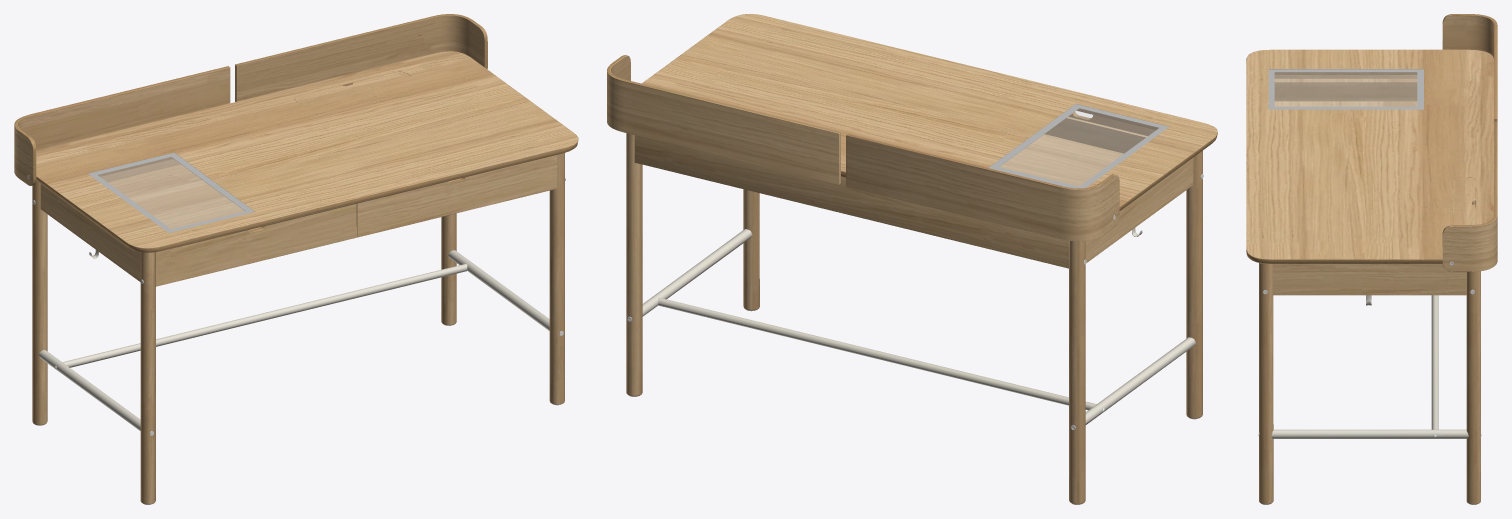
The picture shows the model from 3 angles, left to right: view 1: azimuth 30°, elevation 25°; view 2: azimuth 150°, elevation 25°; view 3: azimuth 270°, elevation 25°; orthographic projection. The views are drawn at different scales.
Parts seen in each view (by area): view 1: 00485224_desk:1, 00485224_desk:2; view 2: 00485224_desk:1, 00485224_desk:2; view 3: 00485224_desk:1, 00485224_desk:2.
Part boxes in pixels (x1,y1,x2,y2): 00485224_desk:1: [14, 14, 578, 504]; 00485224_desk:2: [88, 153, 254, 232]; 00485224_desk:1: [607, 14, 1217, 504]; 00485224_desk:2: [989, 104, 1168, 187]; 00485224_desk:1: [1246, 14, 1497, 504]; 00485224_desk:2: [1269, 69, 1423, 109].
Size of the model in its own units: 1.4 by 0.8804 by 0.6999.
2 materials, 2 textured.
